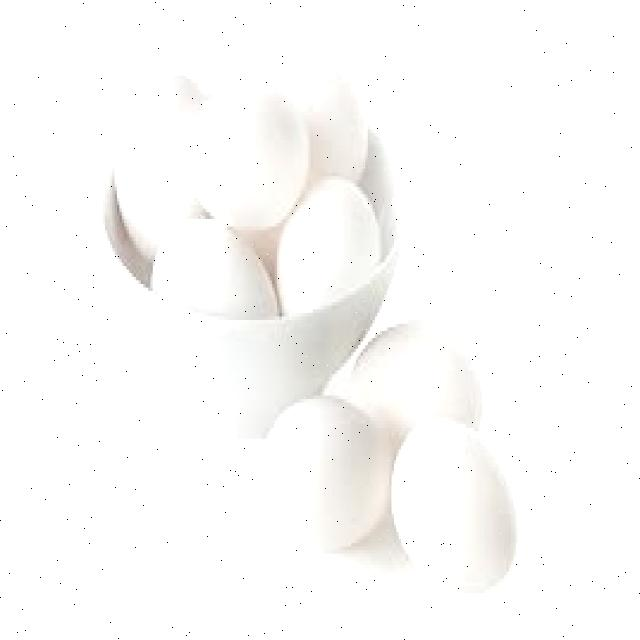White Egg: (389, 415, 522, 596), (256, 391, 396, 557), (336, 318, 487, 459), (186, 71, 310, 232), (110, 64, 208, 259), (150, 213, 280, 342), (262, 44, 374, 187), (275, 173, 382, 305)
